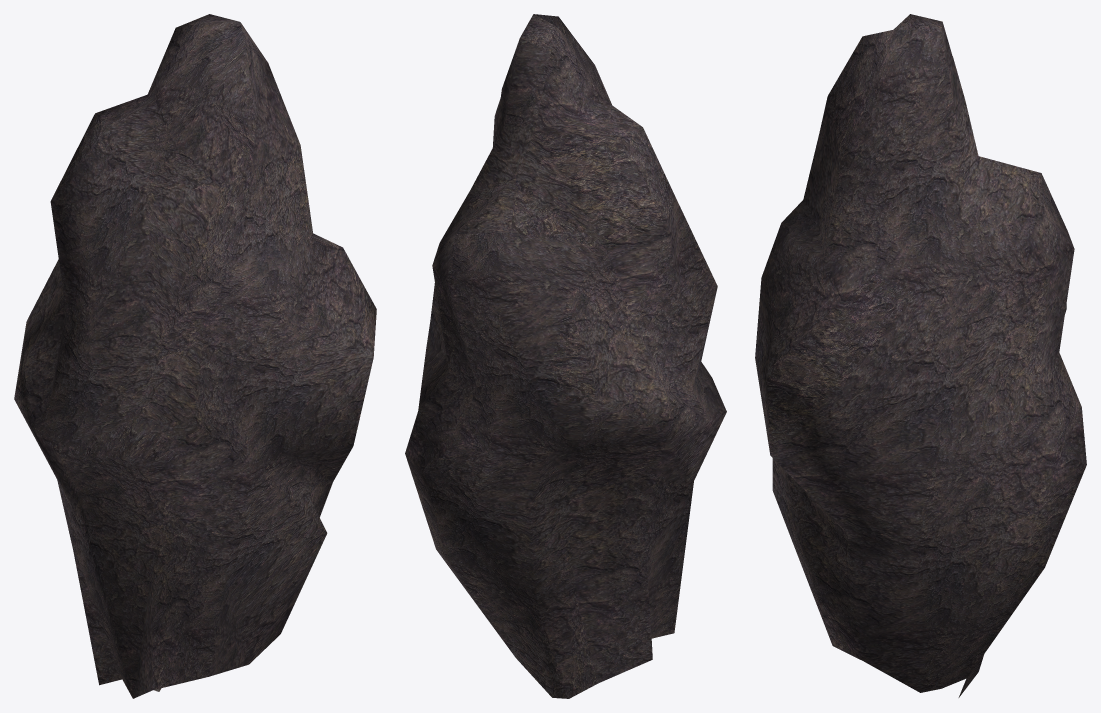
Rendered from rock_pillar_01.fbx.
The picture shows the model from 3 angles, left to right: view 1: azimuth 30°, elevation 25°; view 2: azimuth 150°, elevation 25°; view 3: azimuth 270°, elevation 25°; orthographic projection. The views are drawn at different scales.
Visible parts, largest first — view 1: rock_pillar_01; view 2: rock_pillar_01; view 3: rock_pillar_01.
Boxes of the visible parts, x1,y1,x2,y2 form: rock_pillar_01: [14, 14, 376, 698]; rock_pillar_01: [405, 14, 726, 698]; rock_pillar_01: [755, 14, 1086, 697].
Size of the model in its own units: 17.48 by 37.33 by 16.15.
